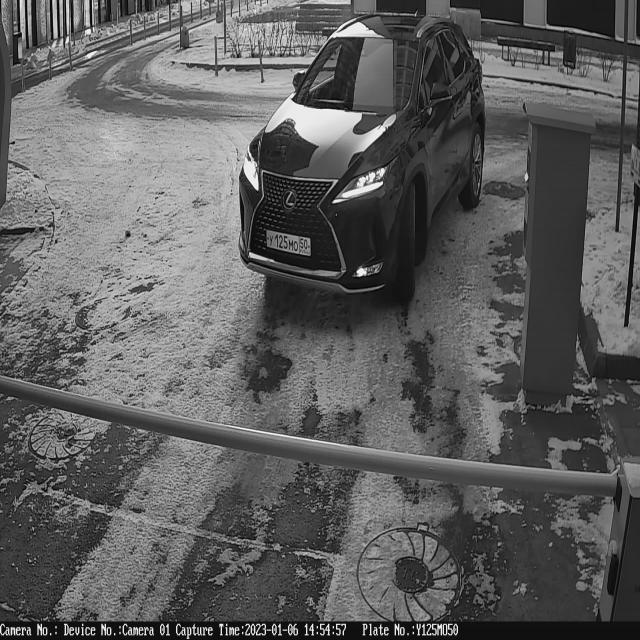car-plate-numbers: (263, 227, 315, 263)
